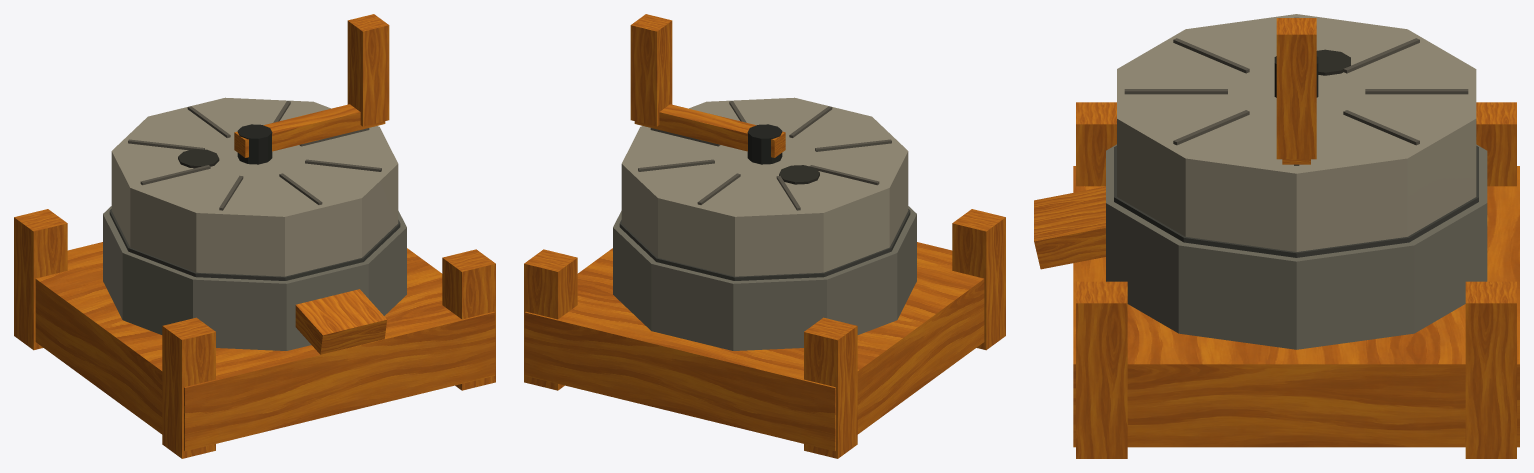
Rendered from stone-mill.obj.
3 renders of one model, left to right at view 1: azimuth 30°, elevation 25°; view 2: azimuth 150°, elevation 25°; view 3: azimuth 270°, elevation 25°, orthographic. The views are drawn at different scales.
Parts seen in each view (by area): view 1: stone-mill; view 2: stone-mill; view 3: stone-mill.
Part boxes in pixels (x1,y1,x2,y2): stone-mill: (14,14,495,458); stone-mill: (524,14,1005,458); stone-mill: (1034,14,1519,458).
Size of the model in its own units: 0.83 by 0.78 by 0.8484.
Materials: 2 (2 with a texture image).
